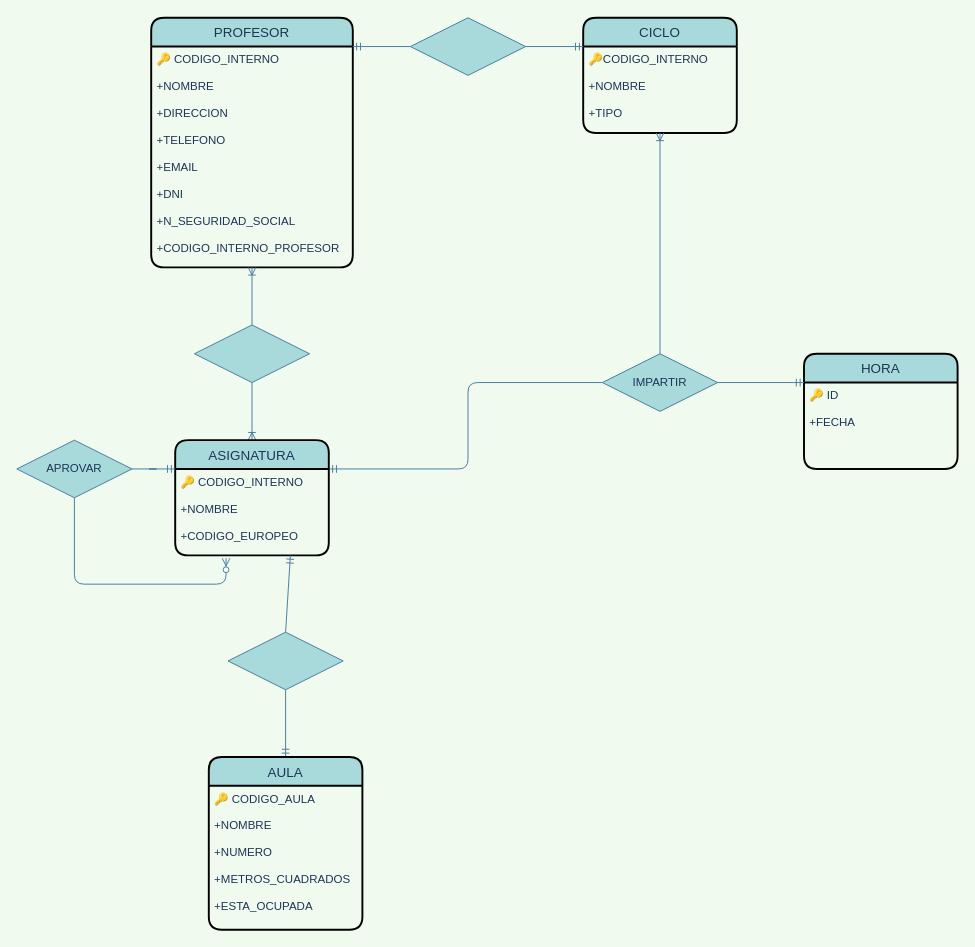
Image size: 975x947. Some labels were removed from this diagram. The shapes that lost their labels are listed below. From the top down, each one's centre as x and y in pixels, then its label:
At (x=467, y=46): "TUTEAR".
At (x=251, y=353): "DAR".
At (x=285, y=660): "OCUPAR".
